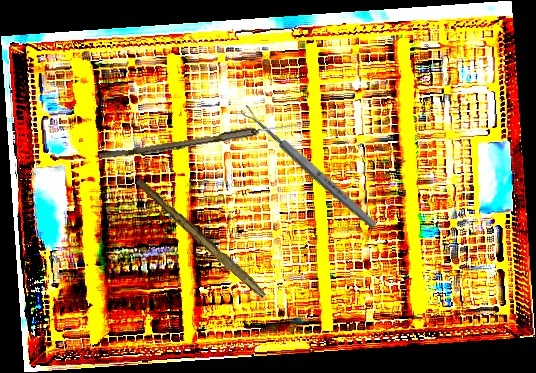Scalpel Handle: (133, 177, 270, 299)
Surgical Spoon: (239, 103, 379, 231), (98, 116, 311, 164)
